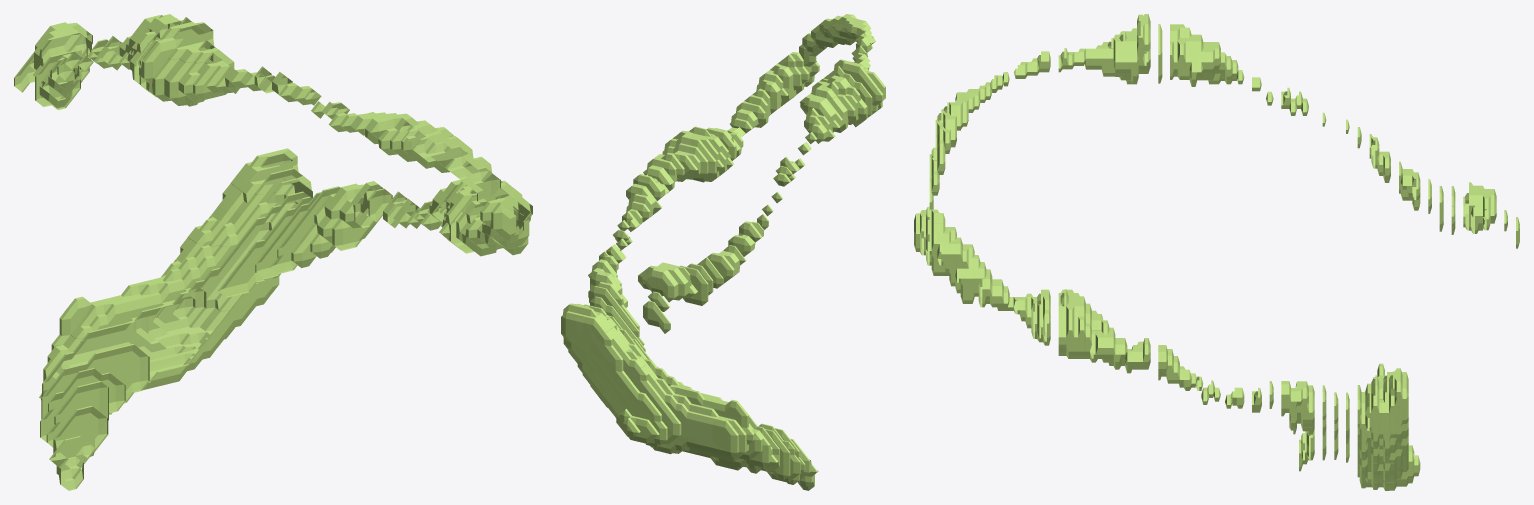
Rendered from SVV_URADL.gltf.
3 views of the same model, side by side, from view 1: azimuth 30°, elevation 25°; view 2: azimuth 150°, elevation 25°; view 3: azimuth 270°, elevation 25° (orthographic). The views are drawn at different scales.
Parts seen in each view (by area): view 1: URADL; view 2: URADL; view 3: URADL.
Boxes of the visible parts, x1,y1,x2,y2 form: URADL: [14, 14, 532, 490]; URADL: [561, 14, 885, 490]; URADL: [914, 14, 1519, 490].
Bounding box in the file's own units: 23041 × 33301 × 39701.
